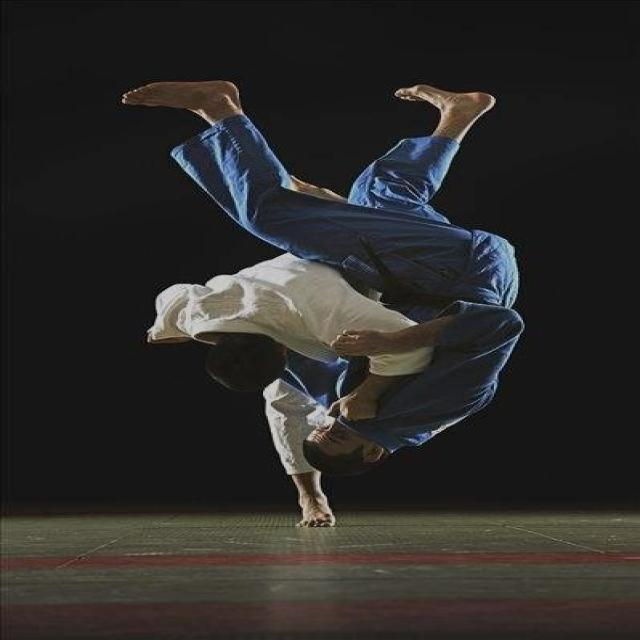fight: (123, 80, 520, 526)
